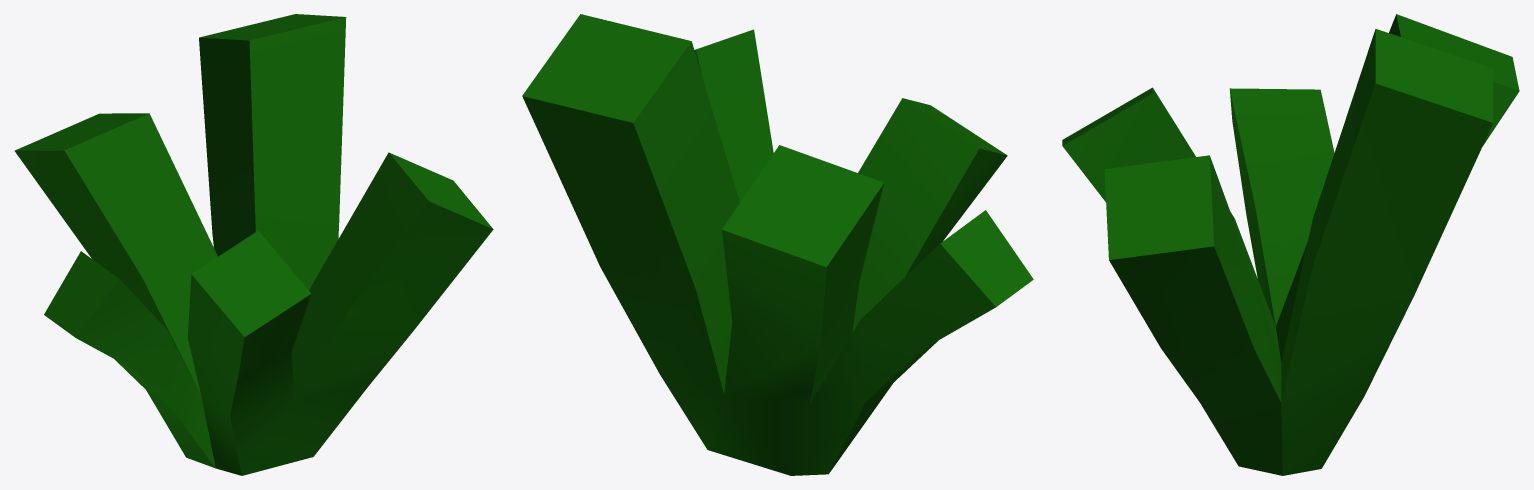
The model's file is SM_Grass_9.FBX.
3 views of the same model, side by side, from view 1: azimuth 30°, elevation 25°; view 2: azimuth 150°, elevation 25°; view 3: azimuth 270°, elevation 25° (orthographic). The views are drawn at different scales.
Visible parts, largest first — view 1: 9; view 2: 9; view 3: 9.
Part boxes in pixels (box(x1,y1,x2,y2)): 9: box(14, 14, 493, 475); 9: box(522, 14, 1033, 475); 9: box(1062, 14, 1519, 475).
Size of the model in its own units: 13.96 by 13.5 by 12.86.
